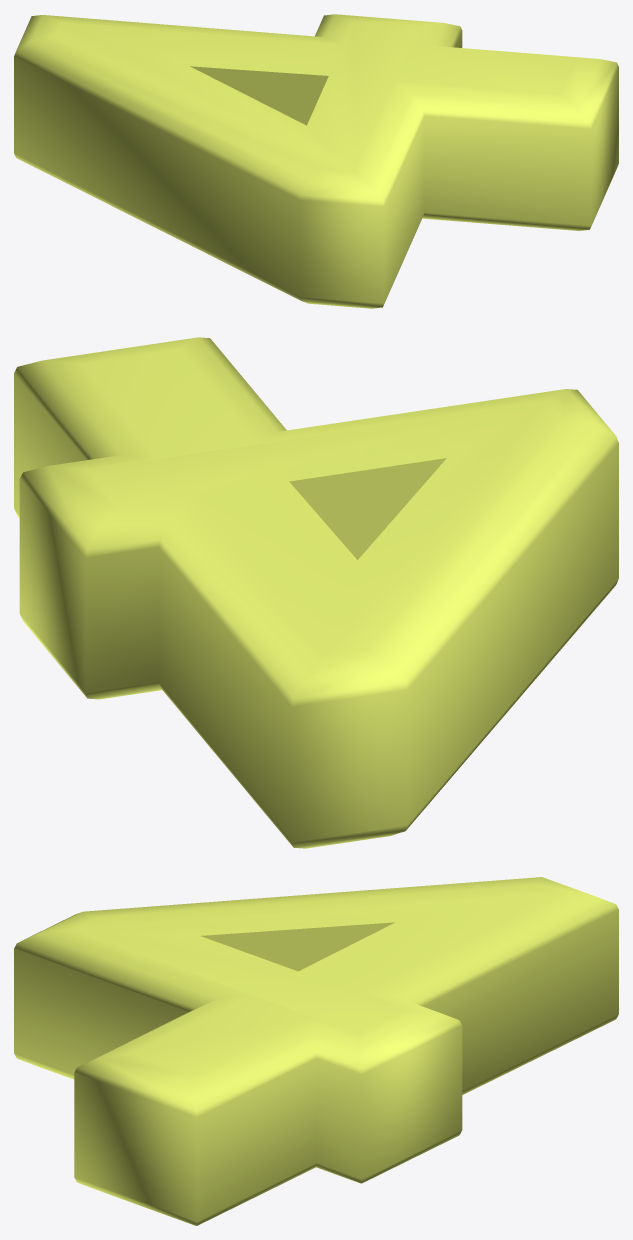
File: ToyObject_209.fbx
The picture shows the model from 3 angles, top to bottom: view 1: azimuth 30°, elevation 25°; view 2: azimuth 150°, elevation 25°; view 3: azimuth 270°, elevation 25°; orthographic projection. The views are drawn at different scales.
Visible parts, largest first — view 1: Object.006; view 2: Object.006; view 3: Object.006.
Part boxes in pixels (x1=…): Object.006: x1=14, y1=14, x2=618, y2=308; Object.006: x1=14, y1=337, x2=618, y2=848; Object.006: x1=14, y1=877, x2=618, y2=1225.
Size of the model in its own units: 0.1289 by 0.0358 by 0.1409.
